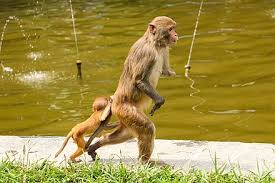monkey: (121, 8, 225, 175), (52, 90, 117, 157)
